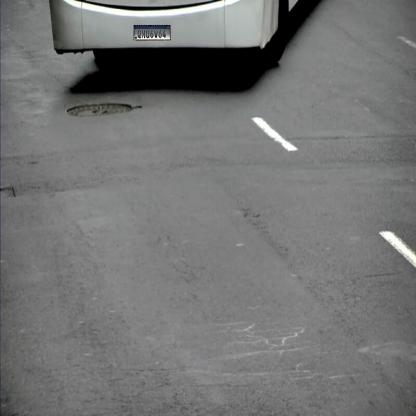PlacaM: (134, 25, 170, 40)
